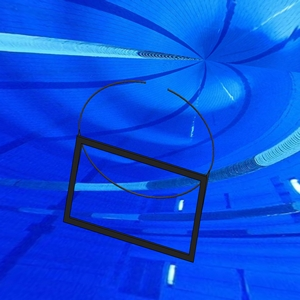circle: (63, 79, 216, 264)
